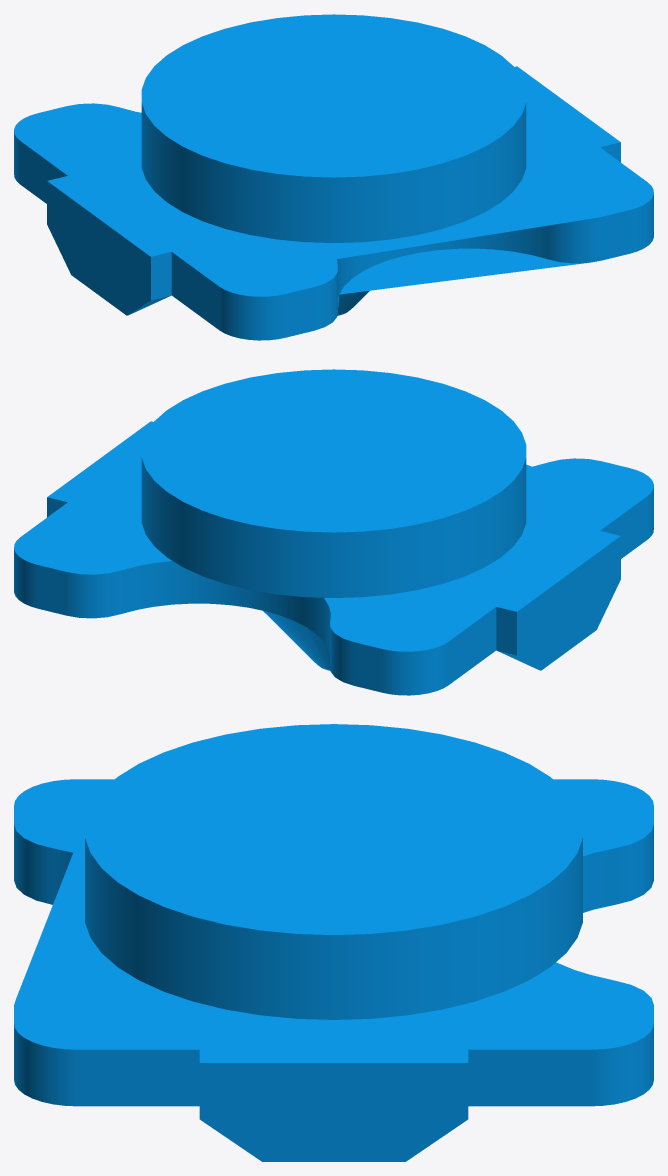
File: 181014 GripFoot.obj
3 views of the same model, one above another, from view 1: azimuth 30°, elevation 25°; view 2: azimuth 150°, elevation 25°; view 3: azimuth 270°, elevation 25° (orthographic). The views are drawn at different scales.
Size of the model in its own units: 0.1125 by 0.0498 by 0.1025.
